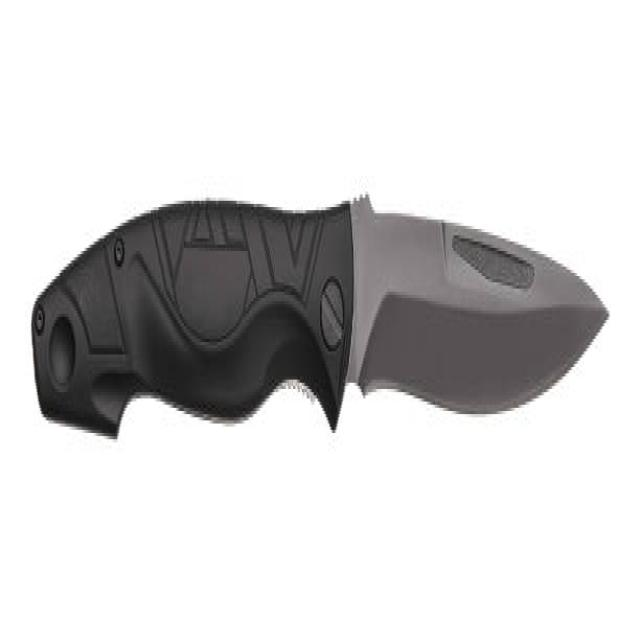knife: (30, 197, 611, 443)
